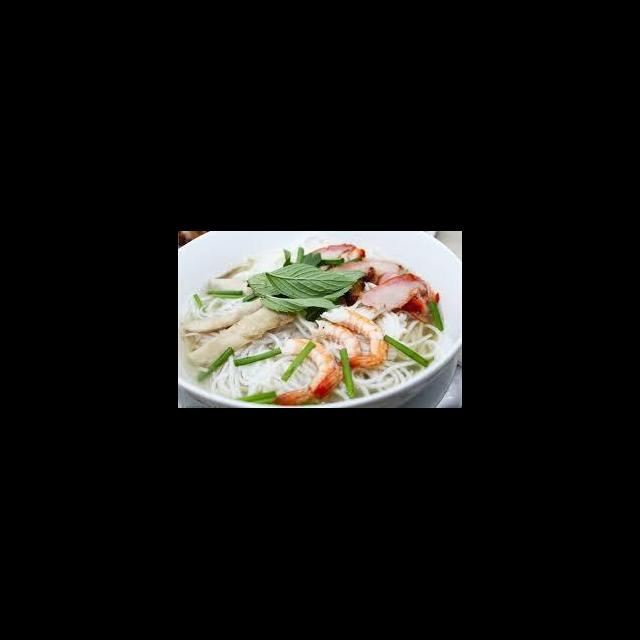bun: (206, 304, 446, 408), (190, 294, 254, 322)
ca: (188, 296, 300, 368), (181, 294, 268, 336)
thit heo quay: (321, 256, 405, 294), (358, 272, 429, 316), (297, 240, 369, 274)
tom: (269, 336, 345, 408), (317, 304, 391, 372), (310, 318, 365, 402)
